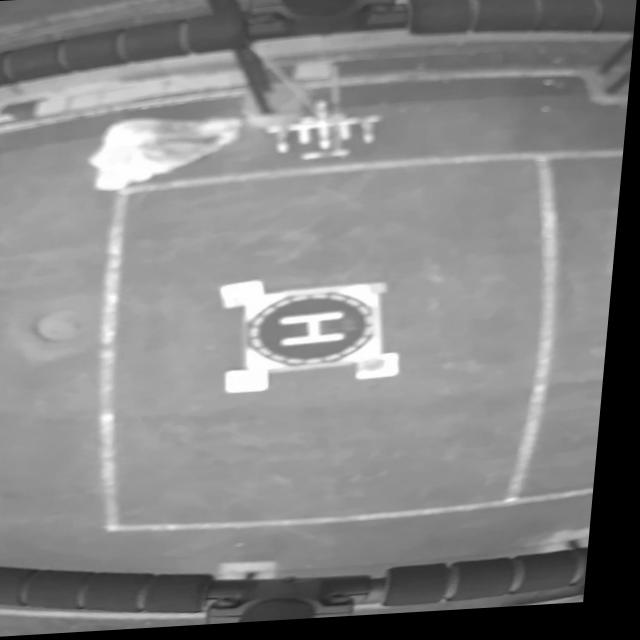Helipad: (286, 313, 353, 350)
